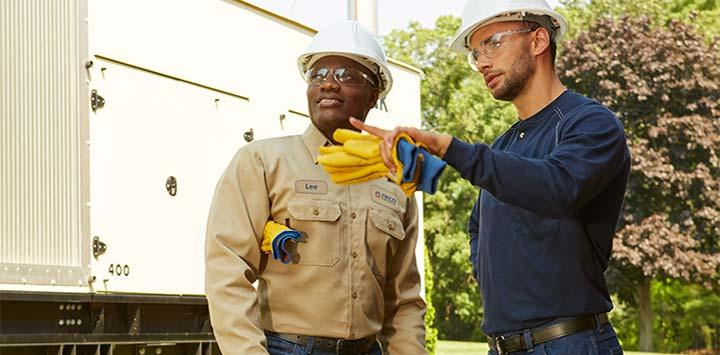helmet: (298, 18, 396, 100), (450, 1, 569, 57)
